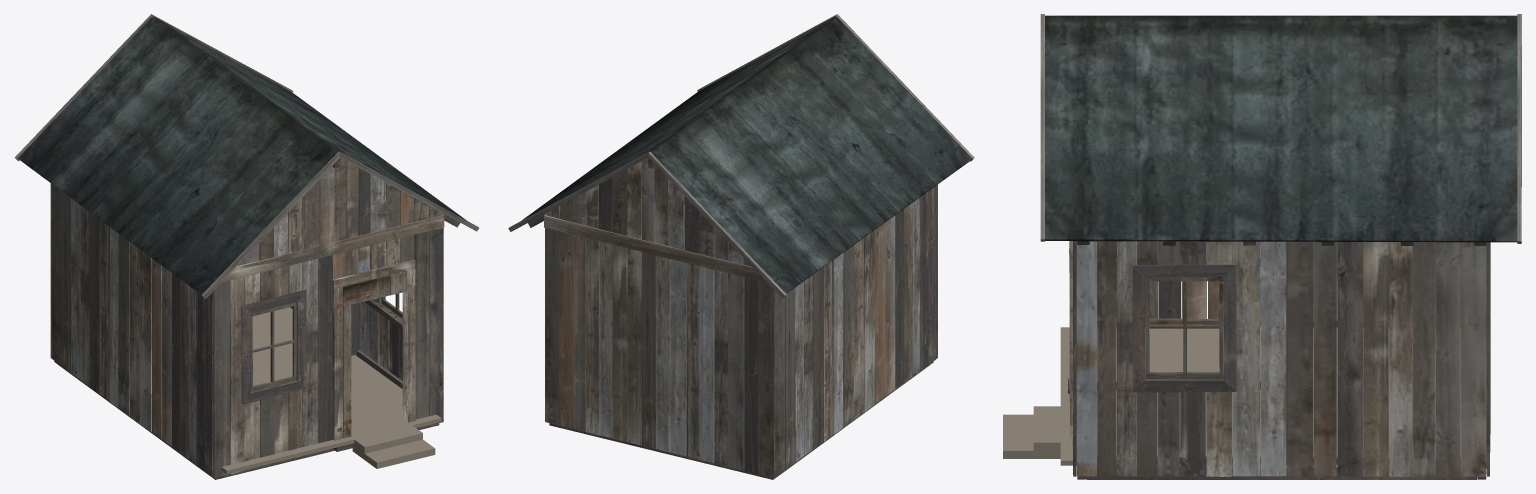
The model's file is cabin.access-v2.lod0.glb.
The picture shows the model from 3 angles, left to right: view 1: azimuth 30°, elevation 25°; view 2: azimuth 150°, elevation 25°; view 3: azimuth 270°, elevation 25°; orthographic projection. The views are drawn at different scales.
Parts seen in each view (by area): view 1: Base_PBR_0, Walkable floors and stairs; view 2: Base_PBR_0; view 3: Base_PBR_0, Walkable floors and stairs.
Boxes of the visible parts, bbox=[...] form: Base_PBR_0: bbox=[14, 14, 478, 479]; Walkable floors and stairs: bbox=[221, 307, 441, 474]; Base_PBR_0: bbox=[508, 14, 974, 479]; Base_PBR_0: bbox=[1040, 14, 1521, 479]; Walkable floors and stairs: bbox=[1003, 327, 1460, 465].
Size of the model in its own units: 7.62 by 8.16 by 9.7.
Materials: 2 (1 with a texture image).
